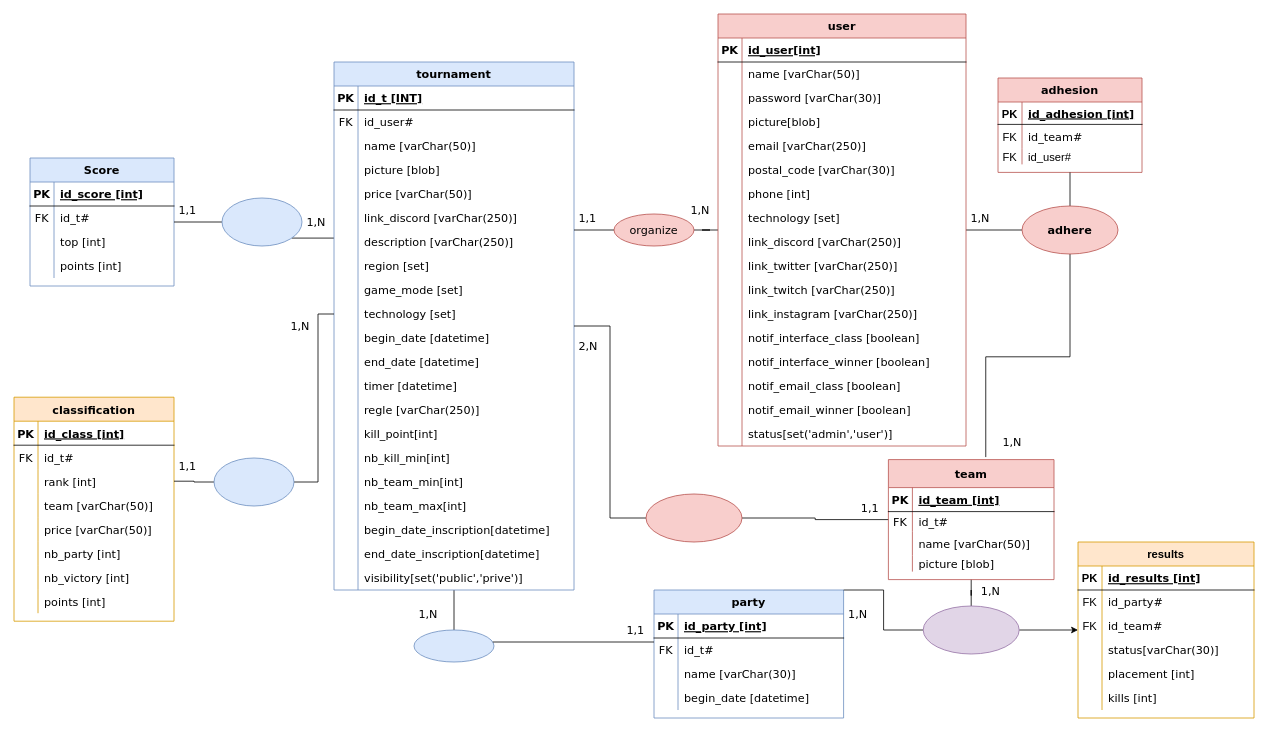
Some shapes in this 1268 by 732 pixel diagram are drawn without their labels. The shapes that lost their labels are listed below. From the top down, each one's centre as x and y in pixels, then its label:
(x=261, y=221): define
(x=253, y=481): get
(x=693, y=517): register
(x=453, y=645): has
(x=970, y=629): result
